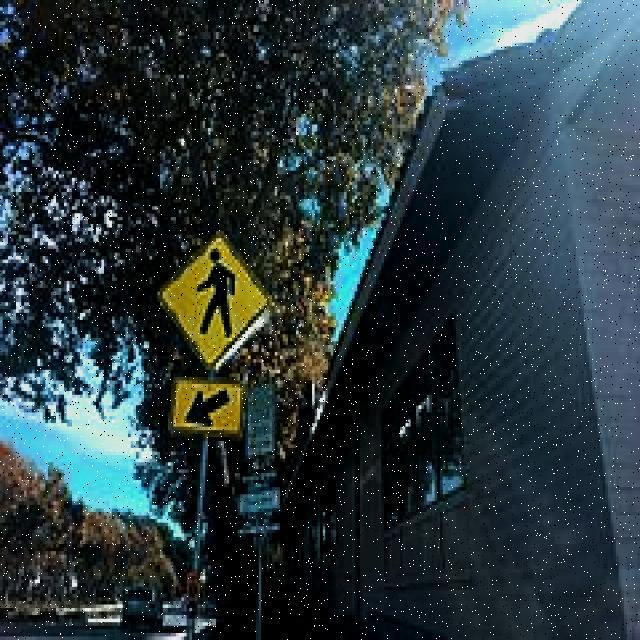Traffic sign: (157, 232, 278, 441)
